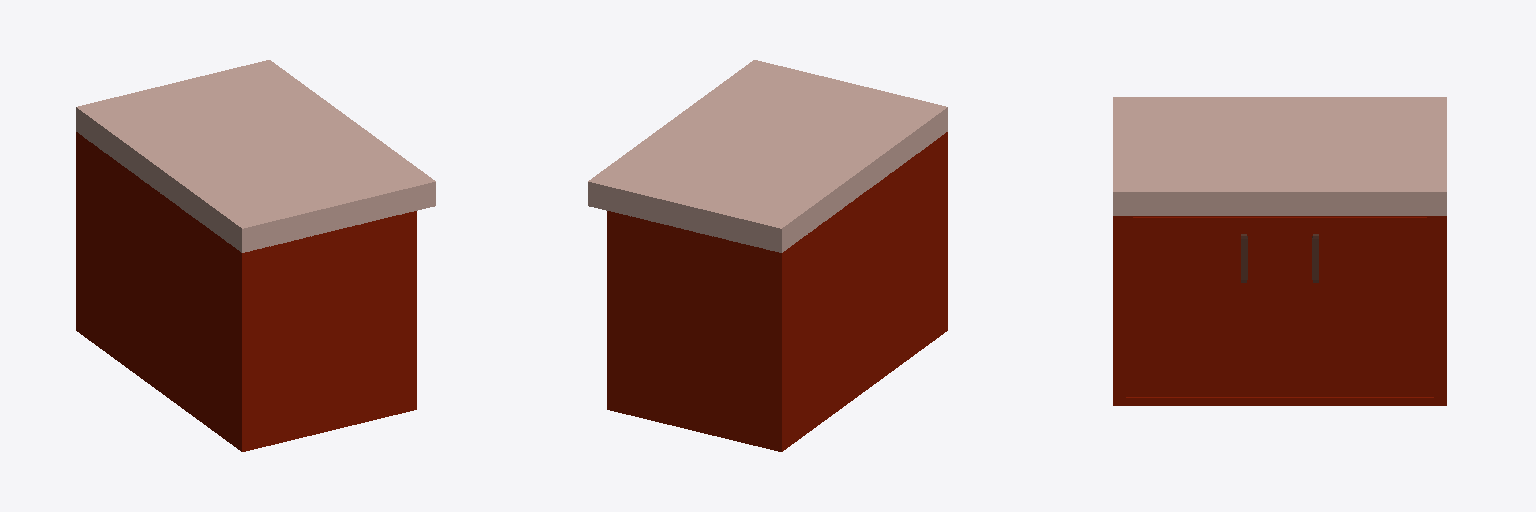
The model's file is table_1.obj.
The picture shows the model from 3 angles: view 1: azimuth 30°, elevation 25°; view 2: azimuth 150°, elevation 25°; view 3: azimuth 270°, elevation 25°; orthographic projection.
Parts seen in each view (by area): view 1: Cube, Cube.002; view 2: Cube, Cube.002; view 3: Cube, Cube.002, Cube.001.
Boxes of the visible parts, x1=… form: Cube: x1=76, y1=132, x2=416, y2=451; Cube.002: x1=76, y1=60, x2=435, y2=252; Cube: x1=607, y1=132, x2=947, y2=451; Cube.002: x1=588, y1=60, x2=947, y2=252; Cube: x1=1113, y1=216, x2=1446, y2=405; Cube.002: x1=1113, y1=97, x2=1446, y2=215; Cube.001: x1=1241, y1=234, x2=1318, y2=282.
Bounding box in the file's own units: 1.66 × 1.83 × 2.48.